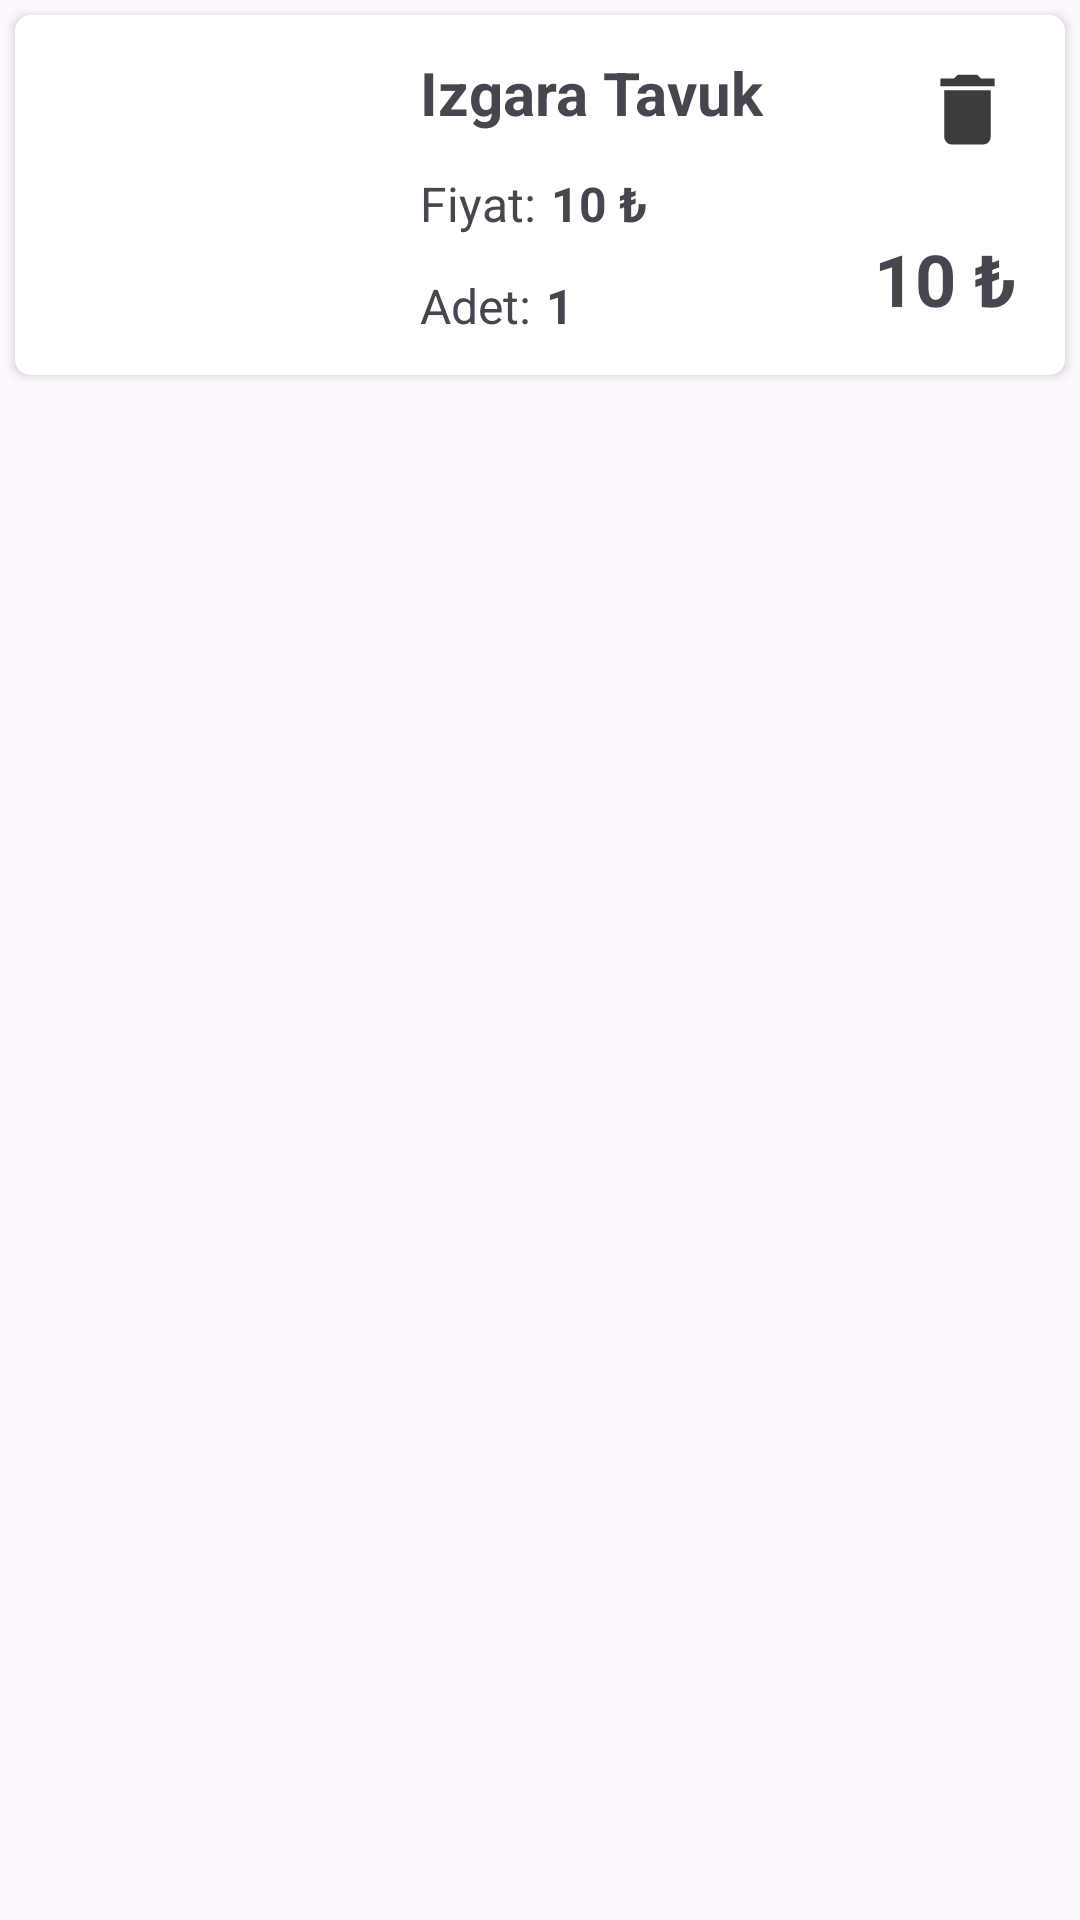

Icon click points for this 1080px x 1920px phone screenshot, format [x,y]:
sil resim: [967,109]
